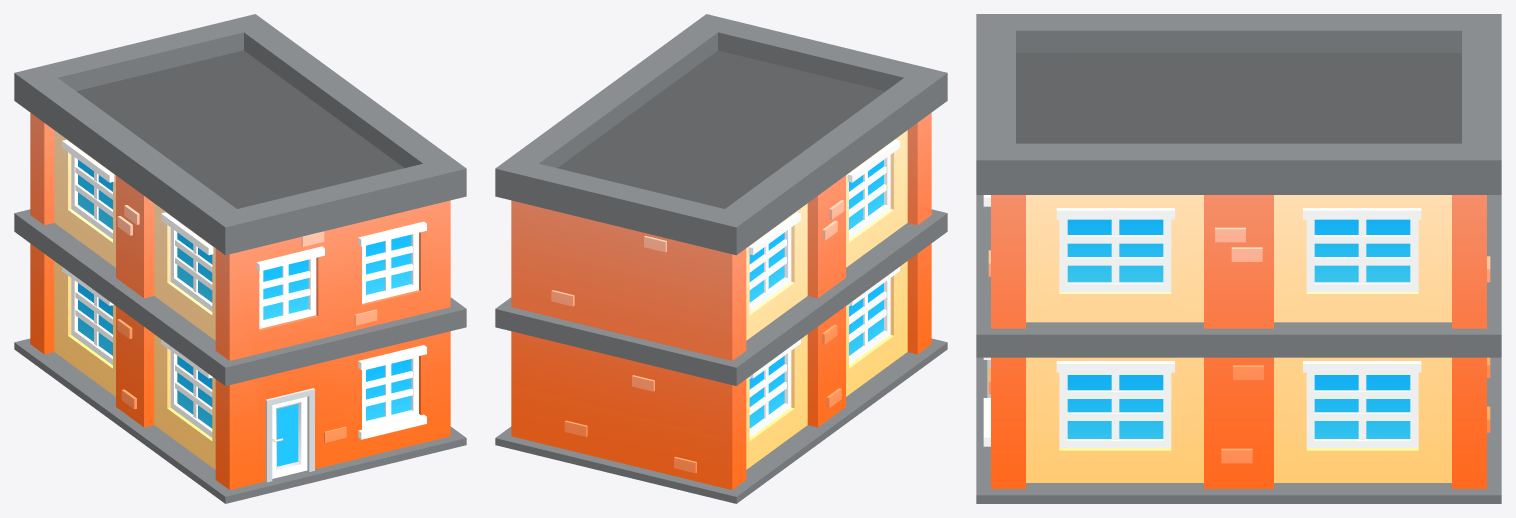
Rendered from city2-building-living-09.glb.
The picture shows the model from 3 angles, left to right: view 1: azimuth 30°, elevation 25°; view 2: azimuth 150°, elevation 25°; view 3: azimuth 270°, elevation 25°; orthographic projection. The views are drawn at different scales.
Parts seen in each view (by area): view 1: Building_Living_09; view 2: Building_Living_09; view 3: Building_Living_09.
Part boxes in pixels (x1,y1,x2,y2): Building_Living_09: (14,14,466,503); Building_Living_09: (495,14,947,503); Building_Living_09: (976,14,1501,503).
Bounding box in the file's own units: 7.15 × 7.83 × 10.84.
Materials: 1 (1 with a texture image).
